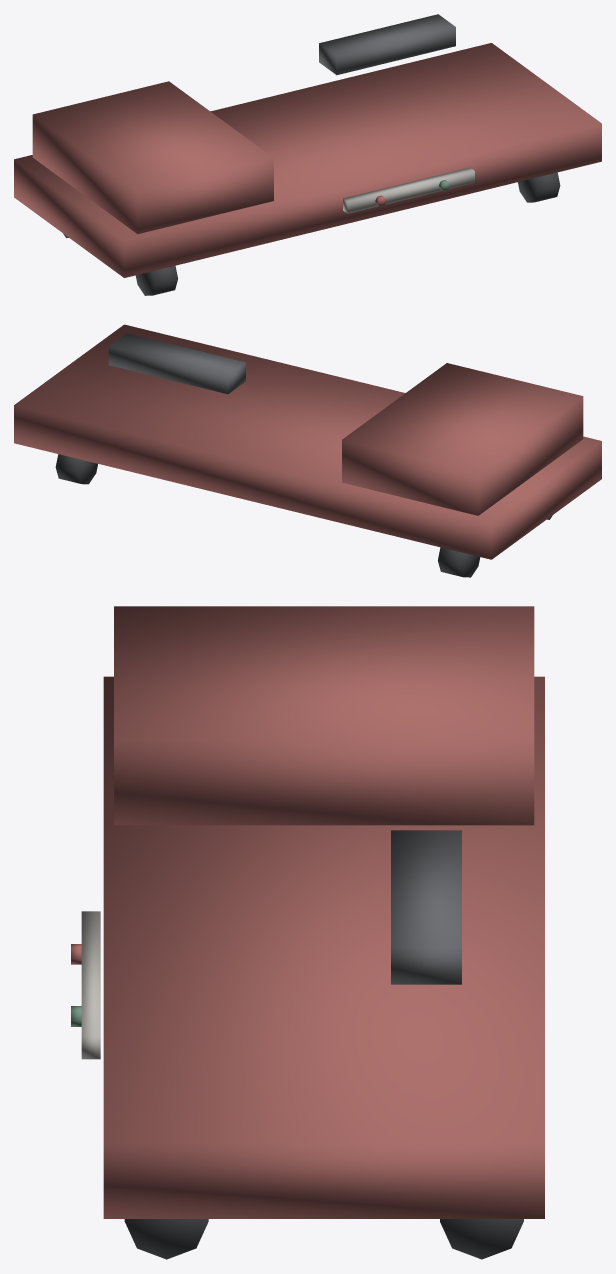
File: mechanic_creeper__service.glb
3 views of the same model, one above another, from view 1: azimuth 30°, elevation 25°; view 2: azimuth 150°, elevation 25°; view 3: azimuth 270°, elevation 25° (orthographic). The views are drawn at different scales.
Visible parts, largest first — view 1: world; view 2: world; view 3: world.
Part boxes in pixels (<box>): world: <box>14,14,601,295</box>; world: <box>14,324,601,577</box>; world: <box>71,606,544,1259</box>.
Bounding box in the file's own units: 1.05 × 0.29 × 0.451.
